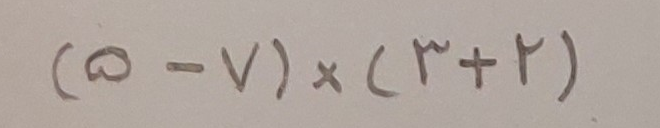character: (221, 42, 259, 94), (412, 37, 451, 87), (367, 44, 401, 98), (51, 42, 81, 101), (84, 46, 131, 81), (515, 32, 544, 86), (459, 47, 496, 89), (558, 30, 576, 102), (312, 60, 343, 92), (272, 38, 288, 99), (166, 61, 206, 73)
